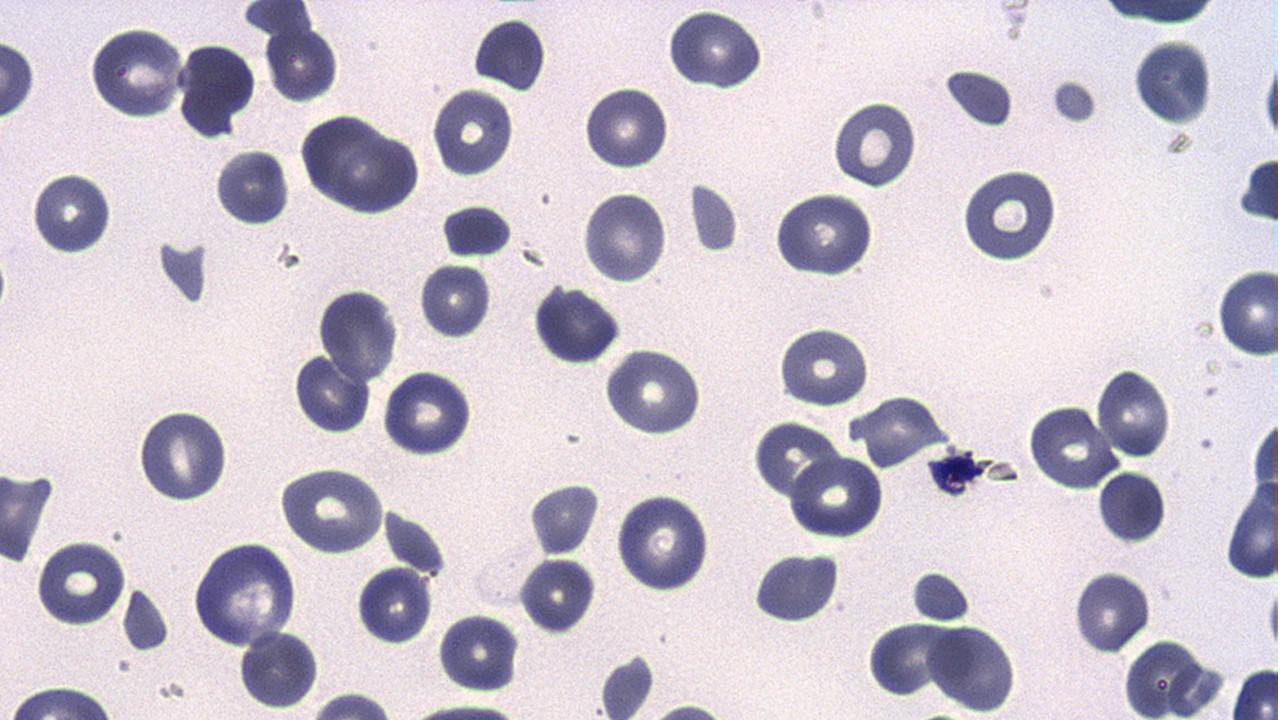Platelets: (135, 404, 234, 503), (28, 168, 118, 256), (1214, 264, 1278, 359), (1094, 470, 1170, 544), (942, 66, 1016, 128), (435, 204, 512, 258), (598, 654, 662, 718), (689, 178, 741, 256), (118, 588, 172, 653), (908, 568, 974, 620), (157, 240, 209, 304), (1235, 156, 1279, 227), (1048, 75, 1098, 127), (927, 450, 977, 496), (1261, 43, 1279, 156), (1262, 579, 1280, 665)
RBC: (612, 488, 713, 594), (958, 165, 1062, 264), (276, 462, 386, 554), (770, 191, 876, 280), (602, 345, 704, 437), (86, 24, 180, 122), (300, 111, 392, 210), (137, 404, 228, 504), (33, 534, 126, 628), (786, 454, 886, 540), (381, 367, 474, 459), (666, 5, 764, 92), (927, 620, 1017, 713), (318, 284, 400, 384), (582, 190, 668, 285), (774, 325, 872, 408), (1026, 400, 1116, 490), (830, 97, 918, 189), (582, 82, 670, 172), (431, 85, 514, 179), (29, 168, 115, 256), (1094, 364, 1172, 459), (751, 415, 838, 500), (1131, 37, 1213, 126), (337, 131, 420, 216), (238, 625, 320, 711), (436, 610, 520, 693), (1071, 567, 1149, 654), (865, 617, 947, 699), (290, 352, 371, 434), (519, 554, 597, 637), (213, 145, 290, 228), (356, 562, 432, 646), (1215, 264, 1279, 361), (418, 258, 492, 340), (264, 24, 339, 104), (1096, 466, 1168, 545), (528, 480, 600, 557), (1223, 486, 1279, 580), (3, 682, 126, 718), (439, 201, 515, 259), (121, 583, 174, 654), (1252, 403, 1280, 531), (0, 35, 38, 123), (1229, 661, 1279, 717), (308, 688, 394, 718)
WBC: (0, 0, 873, 720), (189, 537, 299, 649), (916, 616, 1022, 710), (662, 8, 767, 93), (790, 454, 886, 541), (530, 282, 626, 364), (1130, 37, 1216, 128), (177, 39, 256, 136), (235, 626, 321, 712), (747, 550, 843, 626), (862, 620, 951, 698), (519, 556, 599, 636), (470, 14, 550, 93), (596, 652, 662, 720), (1099, 0, 1219, 28)
